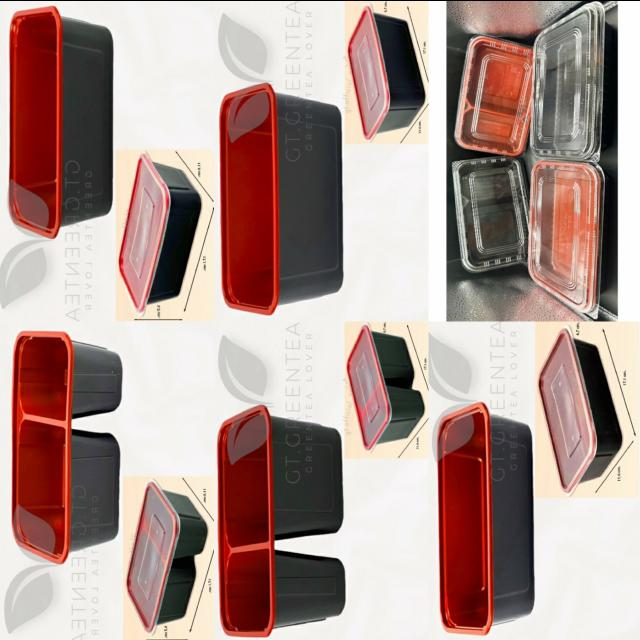plastik: (218, 405, 344, 635), (219, 83, 342, 314), (12, 331, 122, 562), (8, 6, 113, 238), (437, 401, 533, 634), (537, 326, 622, 494), (119, 152, 200, 314), (126, 479, 207, 633), (530, 1, 605, 158), (529, 160, 604, 312), (348, 5, 425, 139), (346, 323, 424, 450), (454, 35, 532, 155), (452, 156, 528, 272)
